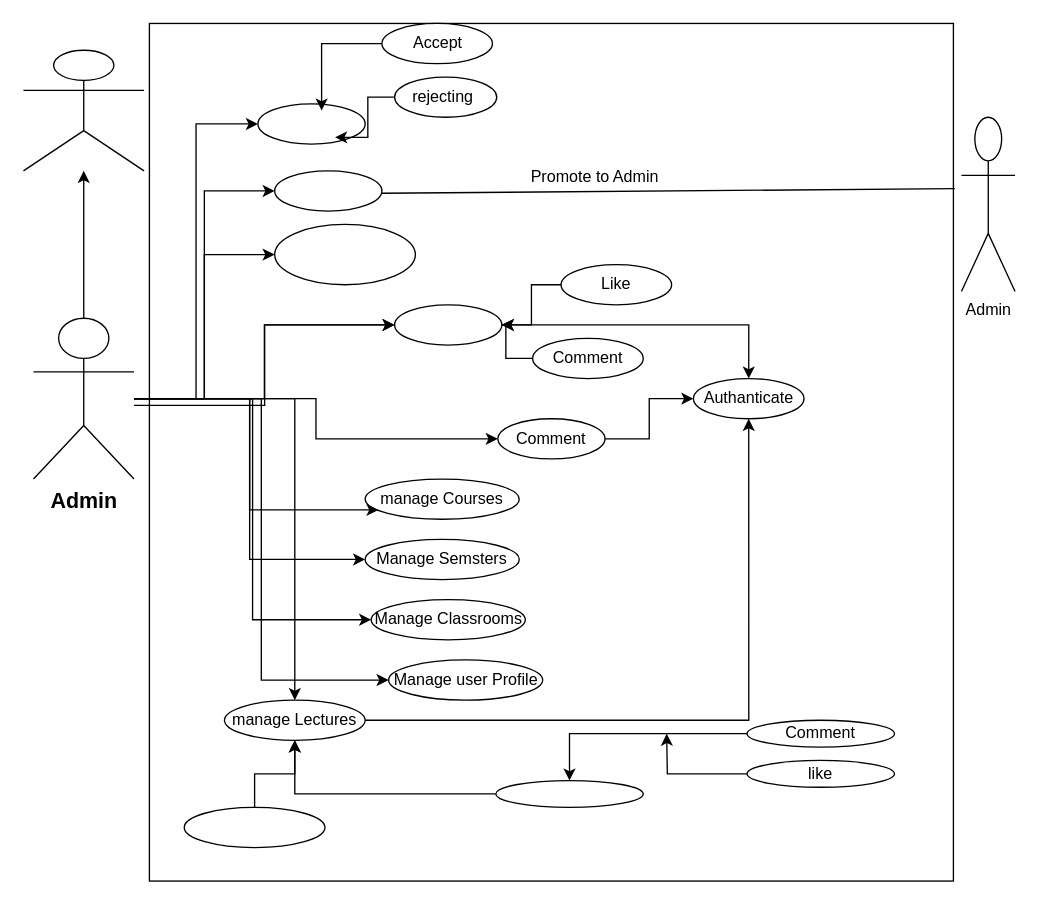
The diagram is 1039 pixels wide and 905 high, and some of its shapes have lost their labels. The shapes that lost their labels are listed below. From the top down, each one's centre as x and y in pixels, then its label:
the point at 83,110: Public User
the point at 311,123: Login
the point at 327,190: Register
the point at 344,254: Assign Instructor on courses
the point at 447,324: Posting
the point at 568,793: Post
the point at 254,827: Upload Attachments
